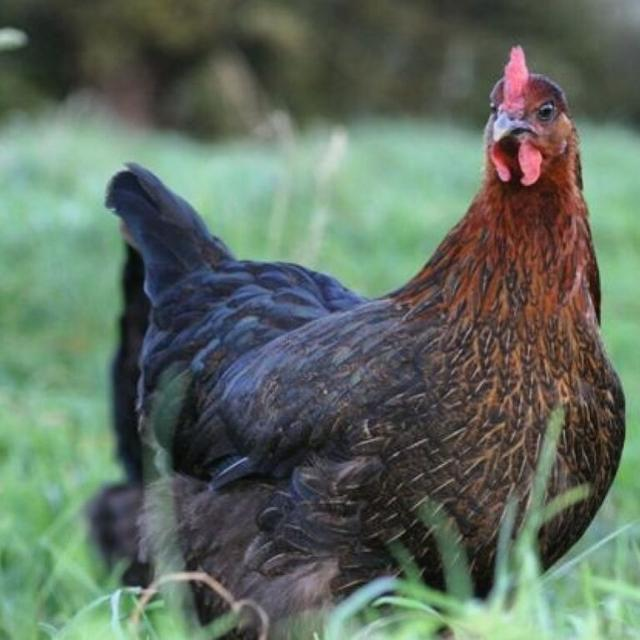Chicken: (104, 46, 627, 636)
